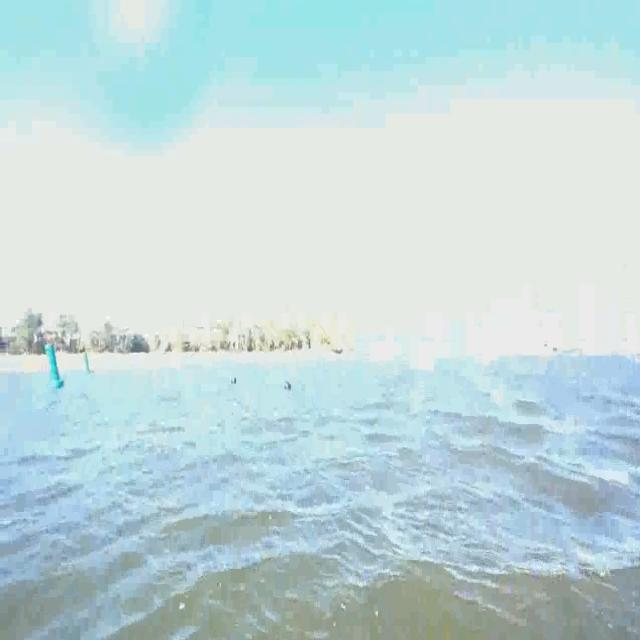black-buoy: (283, 382, 291, 389), (231, 376, 236, 384)
green-column-buoy: (43, 344, 64, 389), (83, 352, 91, 374)
